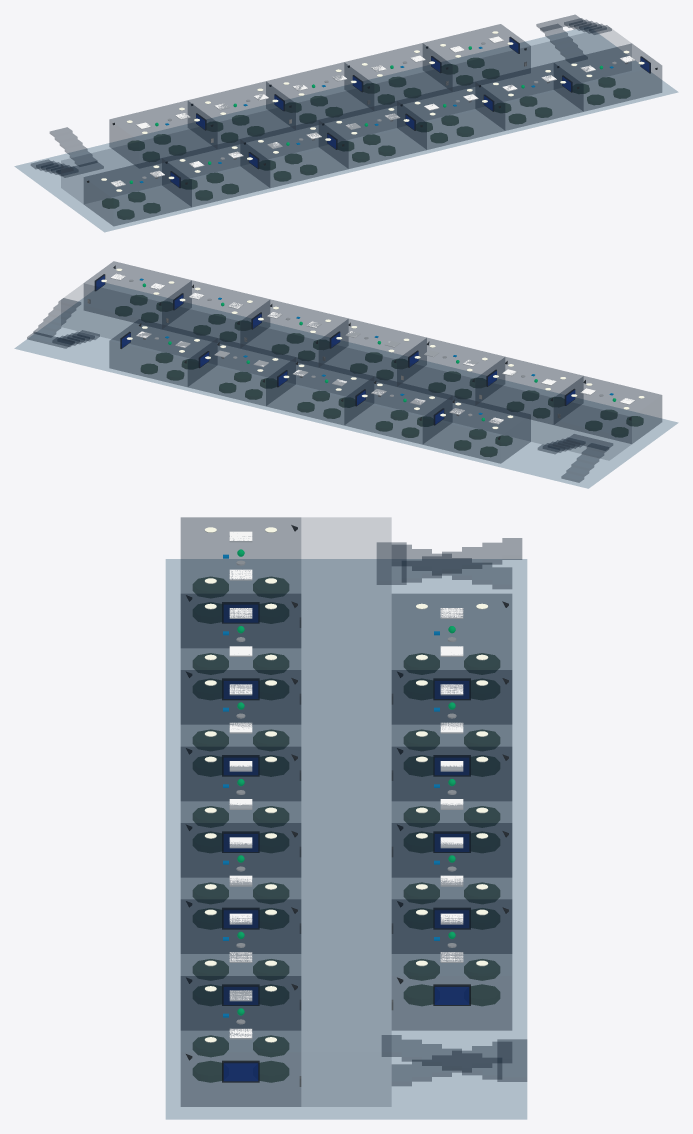
The model's file is Tang_0.glb.
The picture shows the model from 3 angles, top to bottom: view 1: azimuth 30°, elevation 25°; view 2: azimuth 150°, elevation 25°; view 3: azimuth 270°, elevation 25°; orthographic projection. The views are drawn at different scales.
Parts seen in each view (by area): view 1: Arch:FLOOR, Arch:CORRIDOR, Arch:WALL_L1-B1, Arch:WALL_L1-T1, Arch:WALL_L1-B3, Arch:WALL_L1-B4, Arch:WALL_L1-B6, Arch:WALL_L1-B7, Arch:WALL_L1-B2, Arch:WALL_L1-B5, Arch:WALL_L1-T3, Arch:WALL_L1-T4 (+3 smaller); view 2: Arch:FLOOR, Arch:CORRIDOR, Arch:WALL_L1-T1, Arch:WALL_L1-B1, Arch:WALL_L1-T2, Arch:WALL_L1-T5, Arch:WALL_L1-T4, Arch:WALL_L1-T3, Arch:WALL_L1-B4, Arch:WALL_L1-B5, Arch:WALL_L1-B3, Arch:WALL_L1-B2 (+3 smaller); view 3: Arch:FLOOR, Arch:CORRIDOR, Arch:WALL_L1-T5, Arch:WALL_L1-B7, Arch:WALL_L1-B6, Arch:WALL_L1-T2, Arch:WALL_L1-B3, Arch:WALL_L1-T4, Arch:WALL_L1-T3, Arch:WALL_L1-B4, Arch:WALL_L1-B5, Arch:WALL_L1-B2 (+3 smaller).
Boxes of the visible parts, bbox=[...] form: Arch:FLOOR: bbox=[15, 29, 677, 231]; Arch:CORRIDOR: bbox=[61, 27, 630, 203]; Arch:WALL_L1-B1: bbox=[84, 158, 191, 225]; Arch:WALL_L1-T1: bbox=[109, 100, 217, 167]; Arch:WALL_L1-B3: bbox=[240, 120, 348, 187]; Arch:WALL_L1-B4: bbox=[319, 101, 426, 168]; Arch:WALL_L1-B6: bbox=[475, 63, 583, 130]; Arch:WALL_L1-B7: bbox=[554, 43, 661, 111]; Arch:WALL_L1-B2: bbox=[162, 139, 269, 206]; Arch:WALL_L1-B5: bbox=[397, 82, 504, 149]; Arch:WALL_L1-T3: bbox=[266, 62, 373, 129]; Arch:WALL_L1-T4: bbox=[344, 43, 452, 110]; Arch:FLOOR: bbox=[15, 283, 677, 488]; Arch:CORRIDOR: bbox=[61, 284, 631, 459]; Arch:WALL_L1-T1: bbox=[423, 395, 530, 463]; Arch:WALL_L1-B1: bbox=[554, 376, 661, 443]; Arch:WALL_L1-T2: bbox=[344, 376, 452, 444]; Arch:WALL_L1-T5: bbox=[109, 319, 217, 386]; Arch:WALL_L1-T4: bbox=[188, 338, 295, 405]; Arch:WALL_L1-T3: bbox=[266, 357, 373, 425]; Arch:WALL_L1-B4: bbox=[319, 319, 426, 386]; Arch:WALL_L1-B5: bbox=[240, 299, 348, 366]; Arch:WALL_L1-B3: bbox=[397, 338, 504, 405]; Arch:WALL_L1-B2: bbox=[475, 357, 583, 424]; Arch:FLOOR: bbox=[166, 559, 526, 1119]; Arch:CORRIDOR: bbox=[302, 518, 390, 1106]; Arch:WALL_L1-T5: bbox=[392, 899, 511, 1030]; Arch:WALL_L1-B7: bbox=[181, 976, 300, 1106]; Arch:WALL_L1-B6: bbox=[181, 899, 300, 1030]; Arch:WALL_L1-T2: bbox=[392, 670, 511, 800]; Arch:WALL_L1-B3: bbox=[181, 670, 300, 800]; Arch:WALL_L1-T4: bbox=[392, 823, 511, 953]; Arch:WALL_L1-T3: bbox=[392, 747, 511, 877]; Arch:WALL_L1-B4: bbox=[181, 747, 300, 877]; Arch:WALL_L1-B5: bbox=[181, 823, 300, 953]; Arch:WALL_L1-B2: bbox=[181, 594, 300, 724].
Bounding box in the file's own units: 88 × 4.01 × 24.
